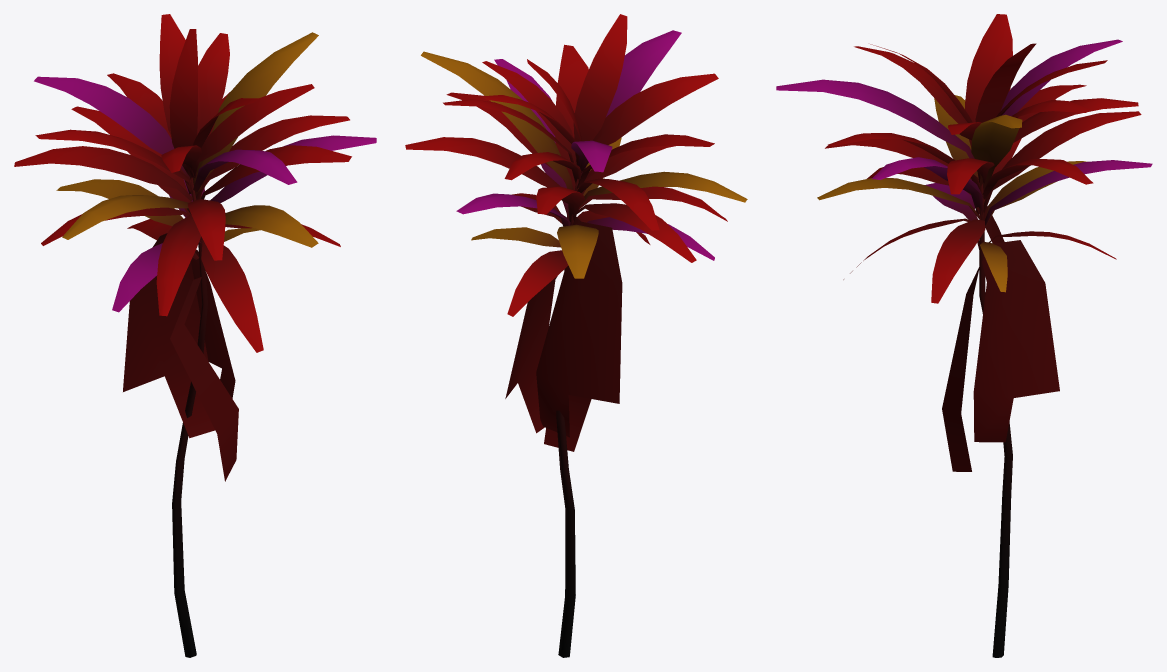
File: Pink_cordyline_var2.fbx
3 renders of one model, left to right at view 1: azimuth 30°, elevation 25°; view 2: azimuth 150°, elevation 25°; view 3: azimuth 270°, elevation 25°, orthographic. The views are drawn at different scales.
Parts seen in each view (by area): view 1: Pink_Cordyline_var2_LOD0; view 2: Pink_Cordyline_var2_LOD0; view 3: Pink_Cordyline_var2_LOD0.
Part boxes in pixels (x1,y1,x2,y2): Pink_Cordyline_var2_LOD0: (14, 14, 376, 657); Pink_Cordyline_var2_LOD0: (405, 14, 747, 657); Pink_Cordyline_var2_LOD0: (776, 14, 1152, 657).
Size of what is drawn, in the model's own units: 1.14 by 2.26 by 1.24.
